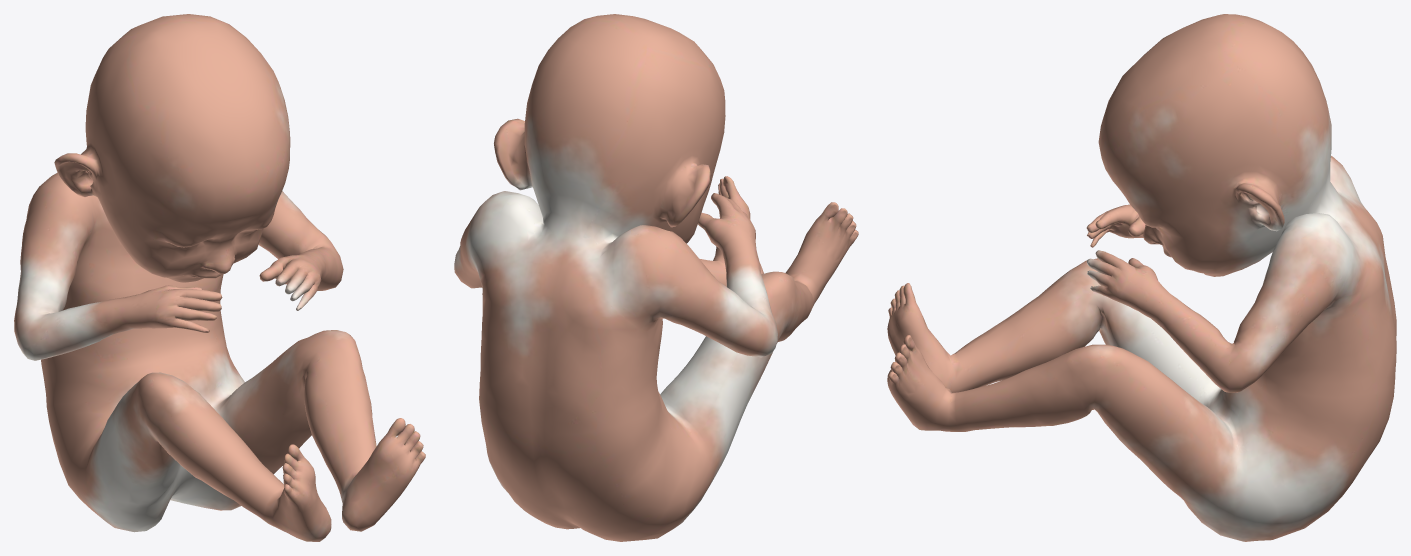
3 renders of one model, left to right at view 1: azimuth 30°, elevation 25°; view 2: azimuth 150°, elevation 25°; view 3: azimuth 270°, elevation 25°, orthographic.
Visible parts, largest first — view 1: Baby; view 2: Baby; view 3: Baby.
Boxes of the visible parts, box(x1,y1,x2,y2) form: Baby: box(14, 14, 425, 541); Baby: box(454, 14, 858, 541); Baby: box(887, 14, 1396, 541).
Size of the model in its own units: 0.2253 by 0.338 by 0.3151.
1 material, 1 textured.
